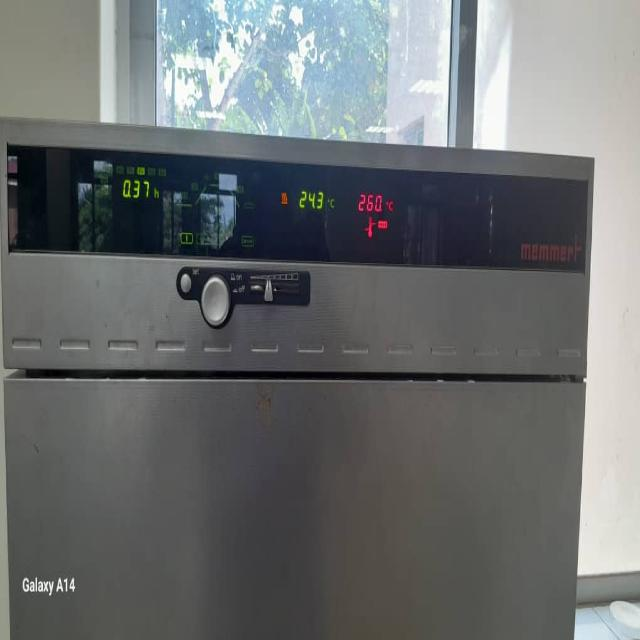Incubator: (5, 110, 590, 639)
